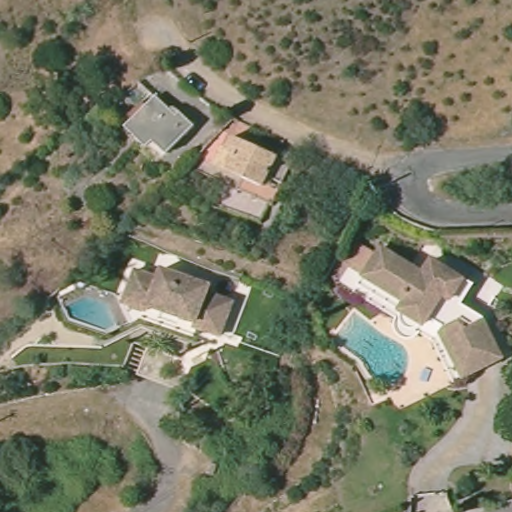pool: (330, 312, 412, 391), (64, 294, 121, 334)
